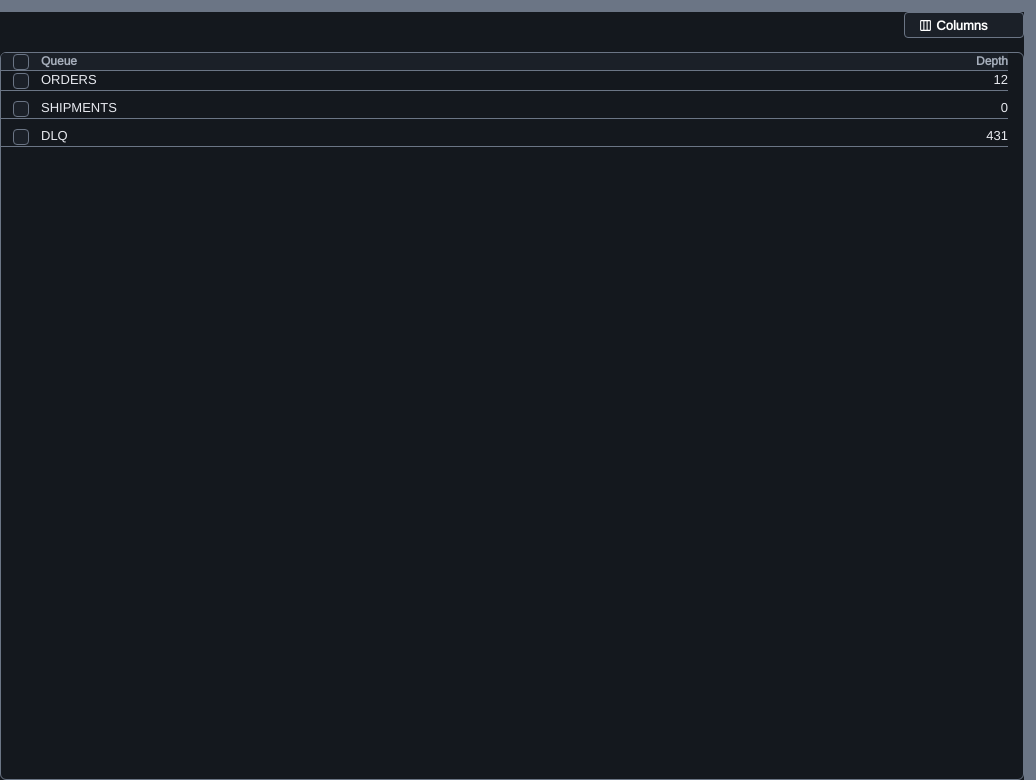
Test: DataTable › selection › selects the whole page, then clears it, through the header box
Click the checkbox named "Select all on this page".
click(21, 62)  # box [13,54,29,70]
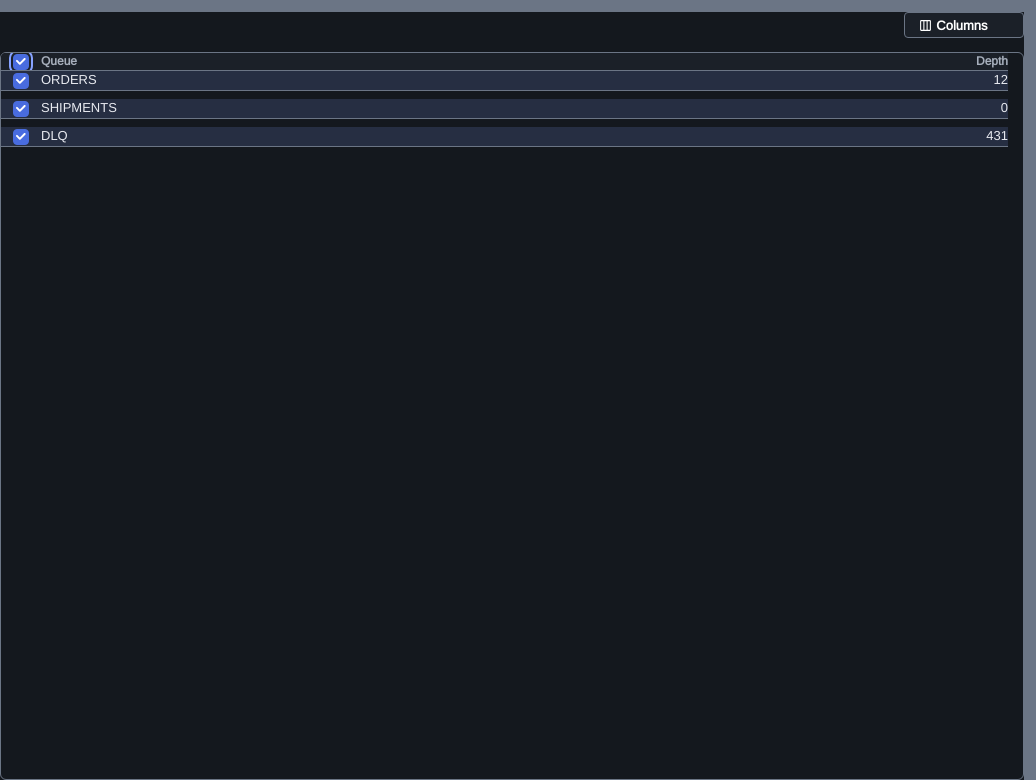
Check: the checkbox named "Select row ORDERS" is checked, box [13,73,29,89]
Check: the checkbox named "Select row SHIPMENTS" is checked, box [13,101,29,117]
Check: the checkbox named "Select row DLQ" is checked, box [13,129,29,145]
Click the checkbox named "Deselect all on this page".
click(21, 62)  # box [13,54,29,70]
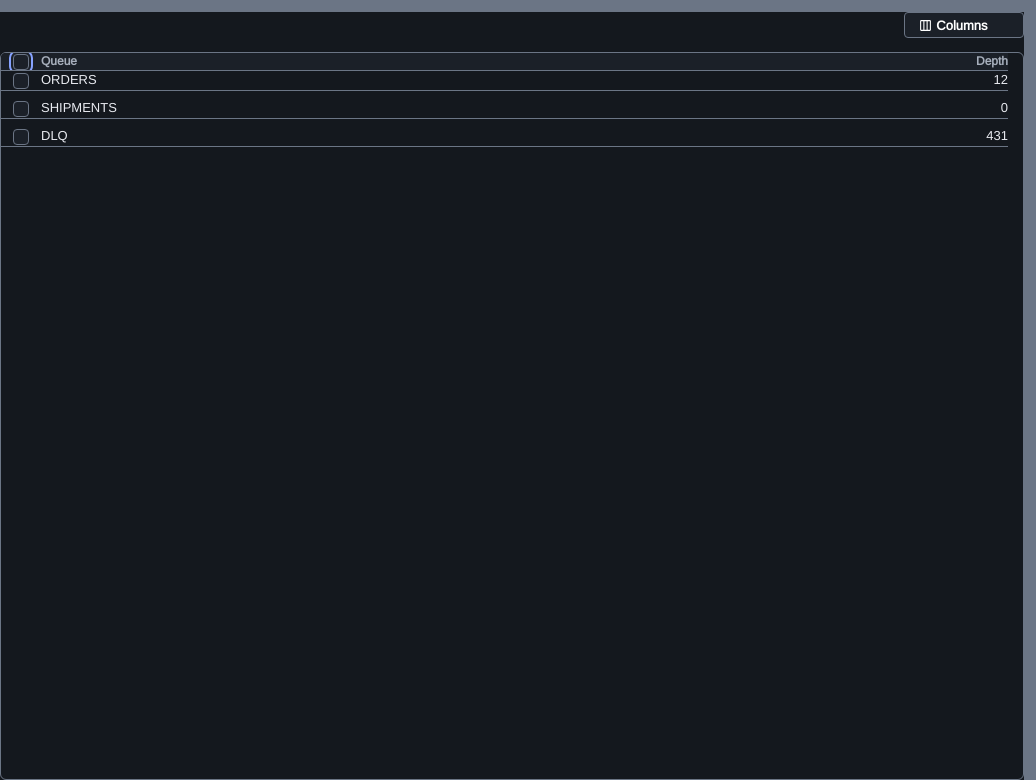
Check: the checkbox named "Select row ORDERS" is not checked, box [13,73,29,89]
